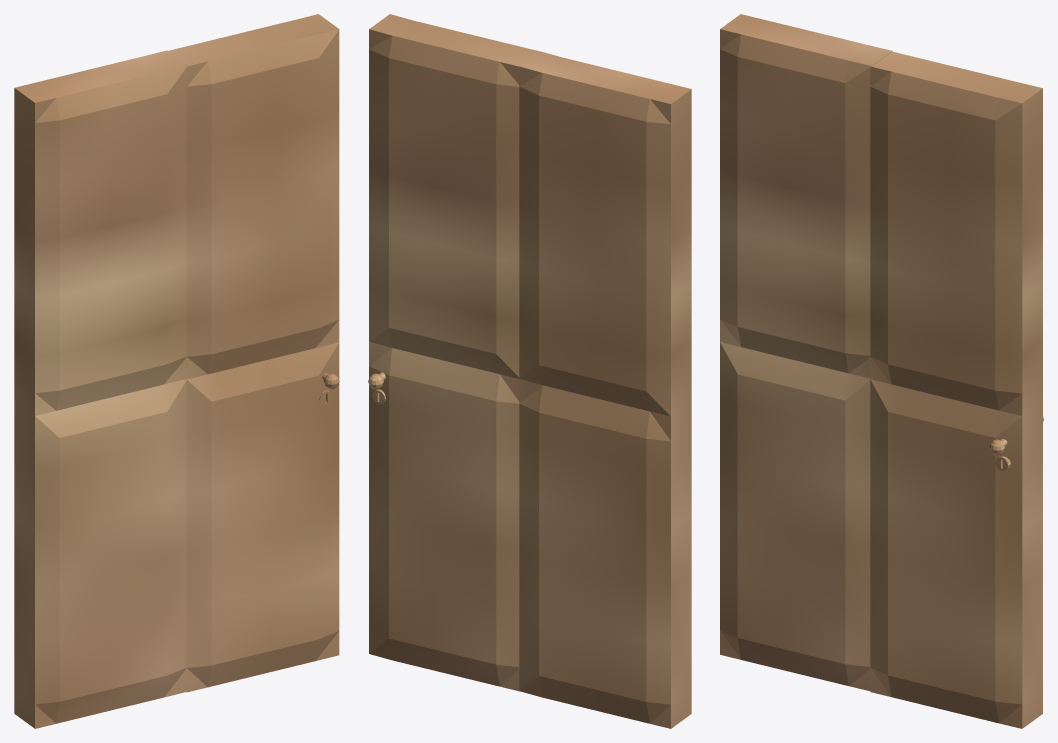
Rendered from porta 1.fbx.
3 renders of one model, left to right at view 1: azimuth 30°, elevation 25°; view 2: azimuth 150°, elevation 25°; view 3: azimuth 330°, elevation 25°, orthographic.
Visible parts, largest first — view 1: Generic_1; view 2: Generic_1; view 3: Generic_1.
Boxes of the visible parts, <box> form: Generic_1: <box>14,14,339,728</box>; Generic_1: <box>368,14,691,728</box>; Generic_1: <box>720,14,1043,728</box>.
Size of the model in its own units: 1.38 by 2.72 by 0.3677.
Materials: 1 (1 with a texture image).
